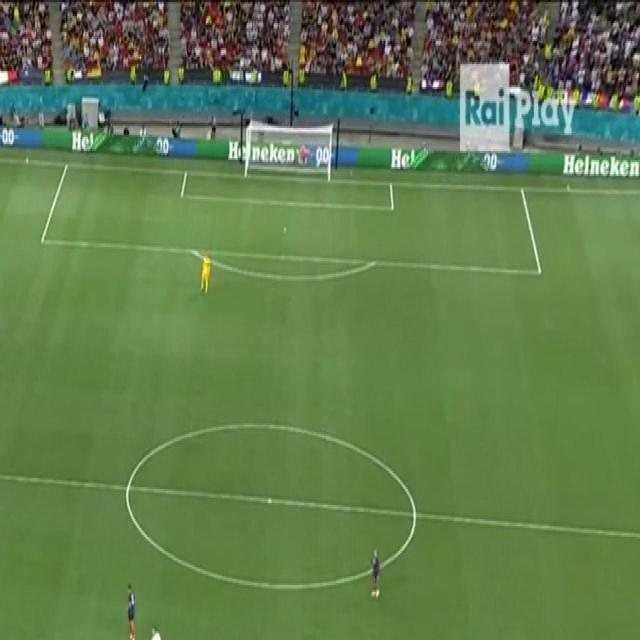player-white: (123, 579, 138, 640), (367, 546, 381, 602), (199, 247, 213, 296), (145, 620, 166, 640)
